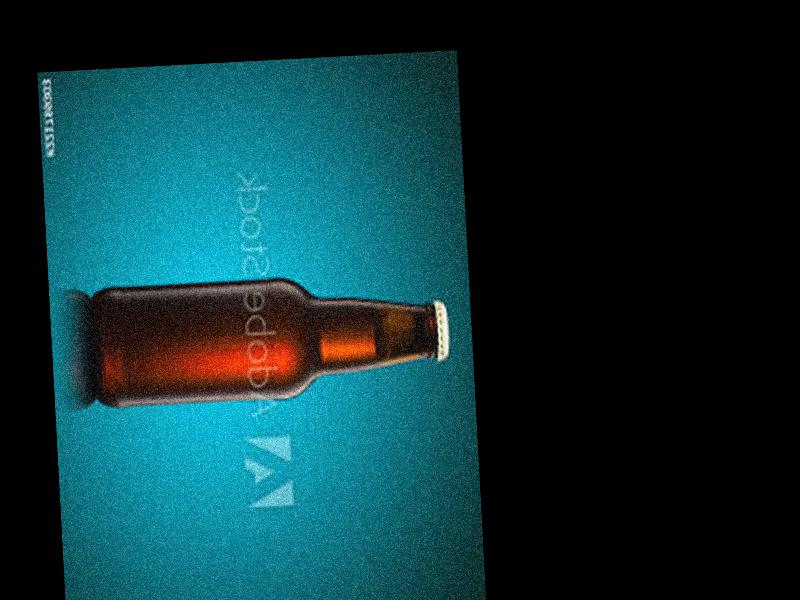Beer: (87, 267, 452, 408)
